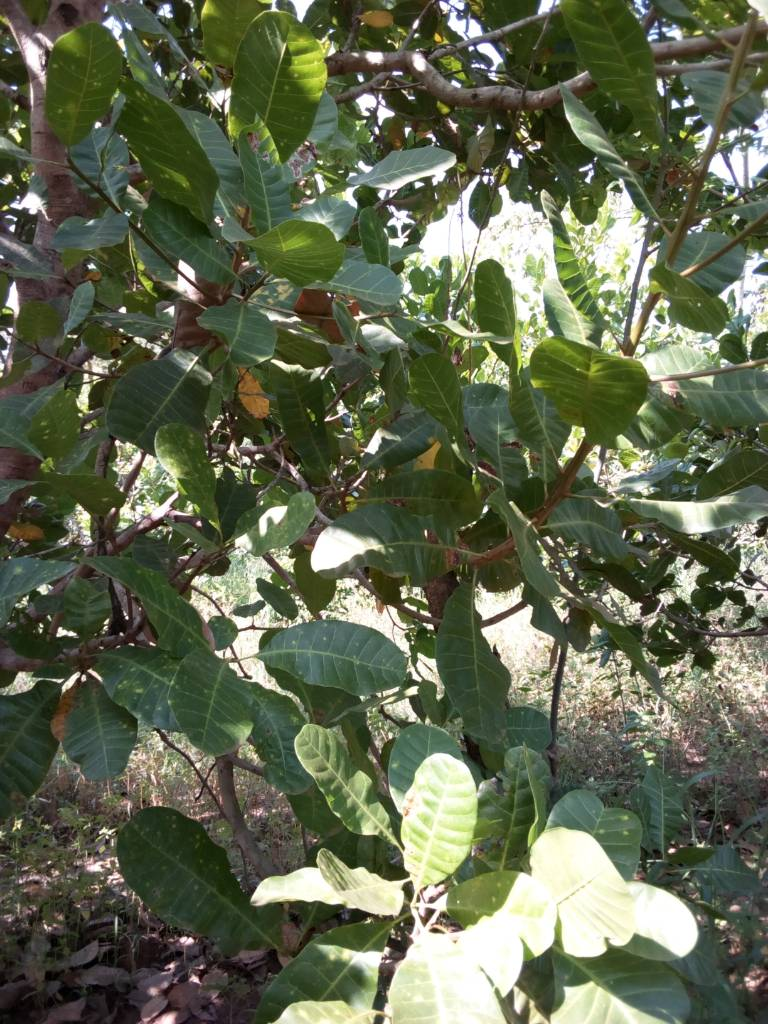Carence minérale: (73, 631, 221, 736), (83, 554, 235, 656), (145, 423, 259, 531), (1, 372, 111, 474)
